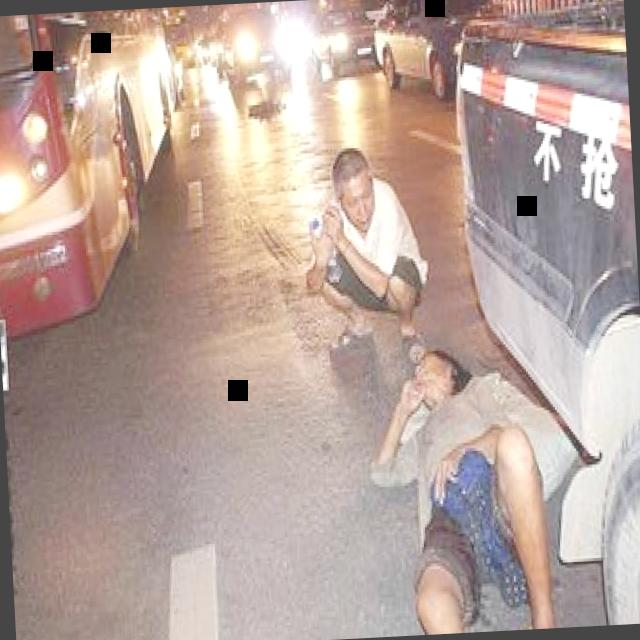Fall-Detected: (351, 322, 572, 638)
